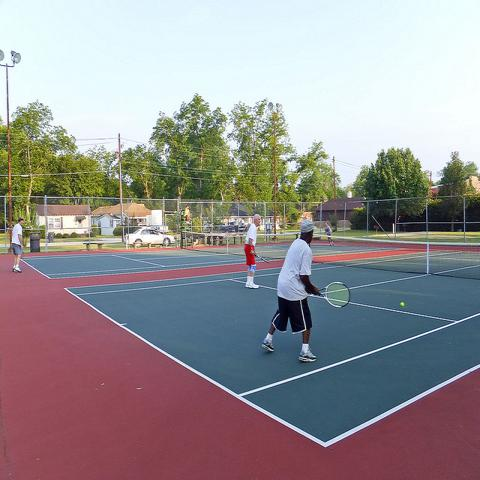car: (124, 226, 176, 248), (228, 221, 246, 232), (219, 225, 233, 233)
